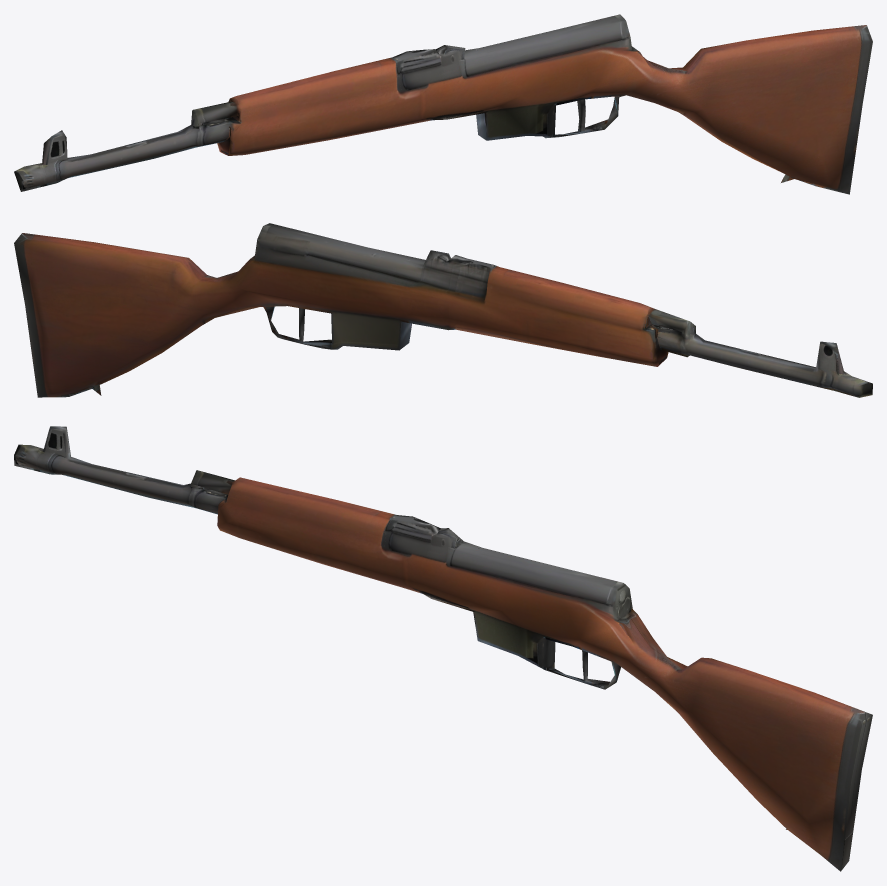
File: m1grand.glb
3 renders of one model, top to bottom at view 1: azimuth 30°, elevation 25°; view 2: azimuth 150°, elevation 25°; view 3: azimuth 330°, elevation 25°, orthographic.
Visible parts, largest first — view 1: Mesh_0; view 2: Mesh_0; view 3: Mesh_0.
Part boxes in pixels (x1,y1,x2,y2): Mesh_0: (14, 14, 872, 194); Mesh_0: (14, 223, 872, 397); Mesh_0: (14, 426, 872, 871).
Size of the model in its own units: 2.56 by 0.7204 by 0.1.
1 material, 1 textured.
